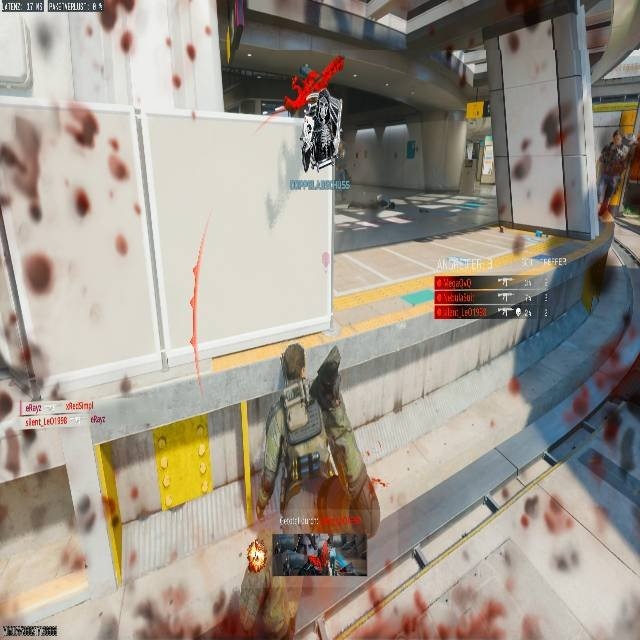head: (58, 100, 100, 150), (611, 130, 624, 145)
player: (245, 342, 380, 575), (595, 130, 634, 222)
